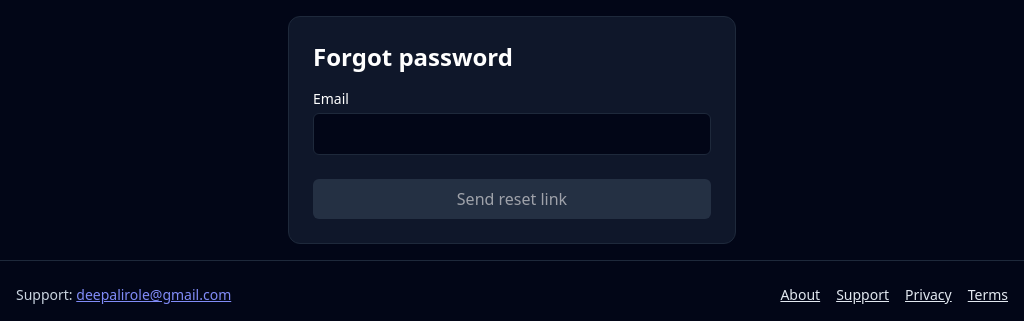
Auth pages › TEST 8.6 — Forgot password shows confirmation after submit
In the field labelled "Email": (512, 134) [313,113,711,155], type "test@gmail.com"
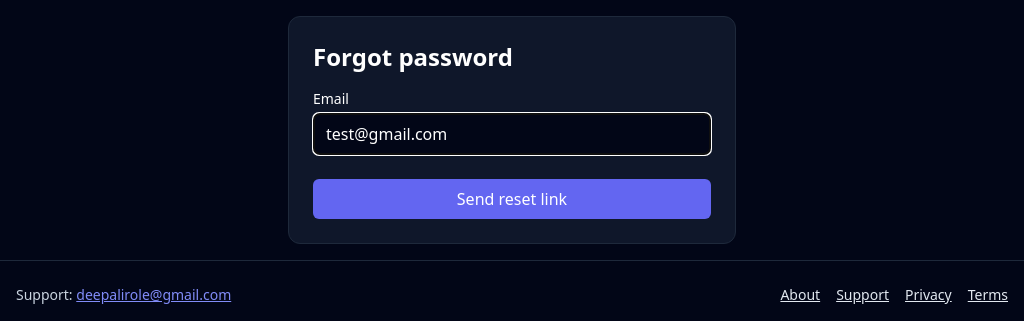
Click the button "Send reset link": (512, 199) [313,179,711,219]
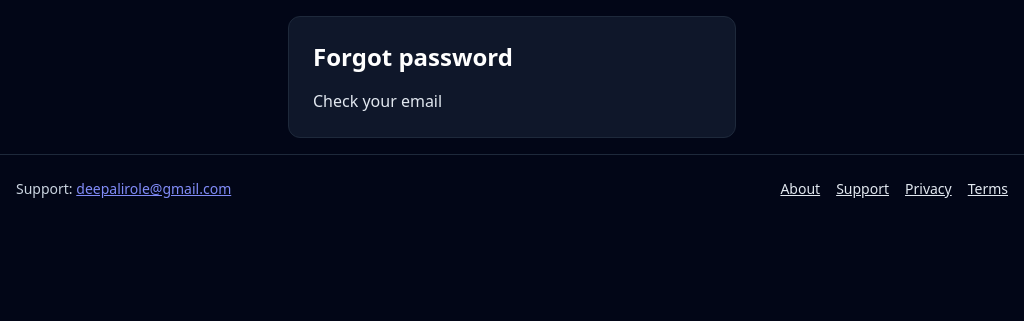
expect the text "Check your email" is shown: met, box [313,90,442,112]
